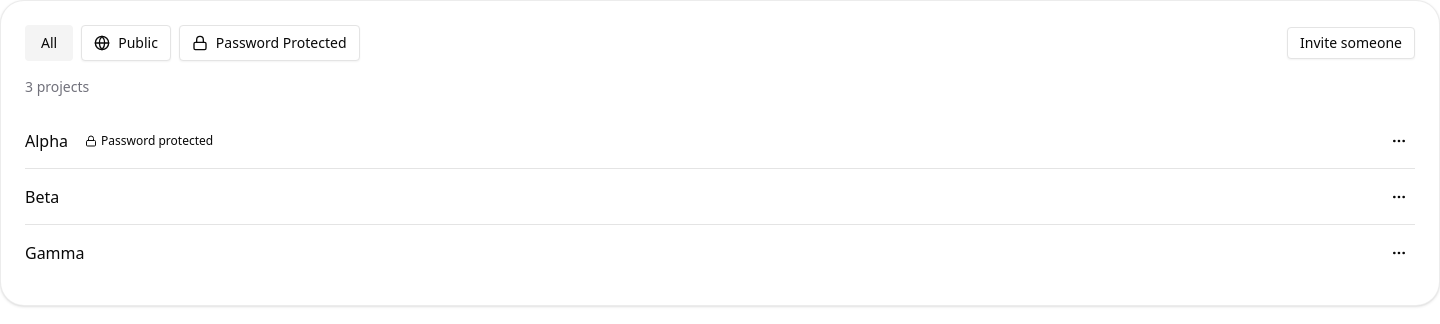
Test: ProjectsList › says how many projects the filter shows
What coordinates should you click on to do the following:
click the button "Password Protected"
I would click on:
 (269, 43)
Its box is [179,25,360,61].
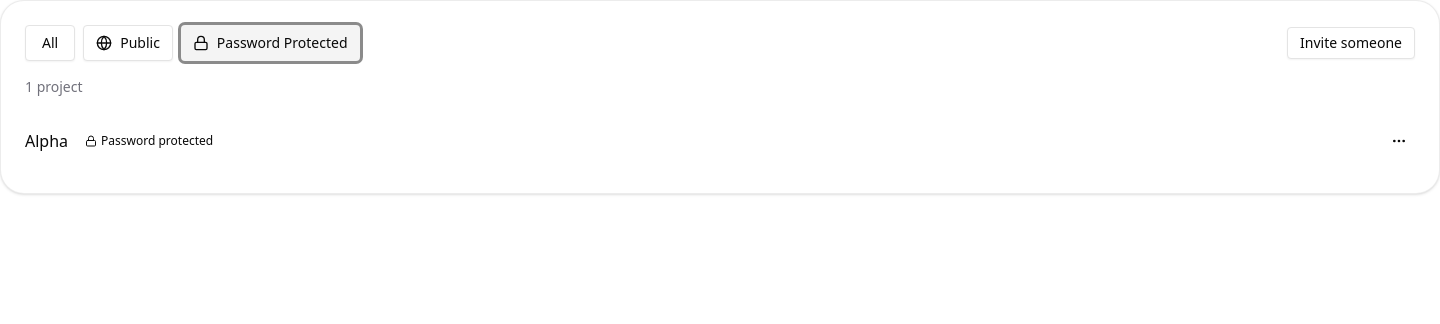
Check: the text "3 projects" reads "1 project", box [25,77,82,96]
